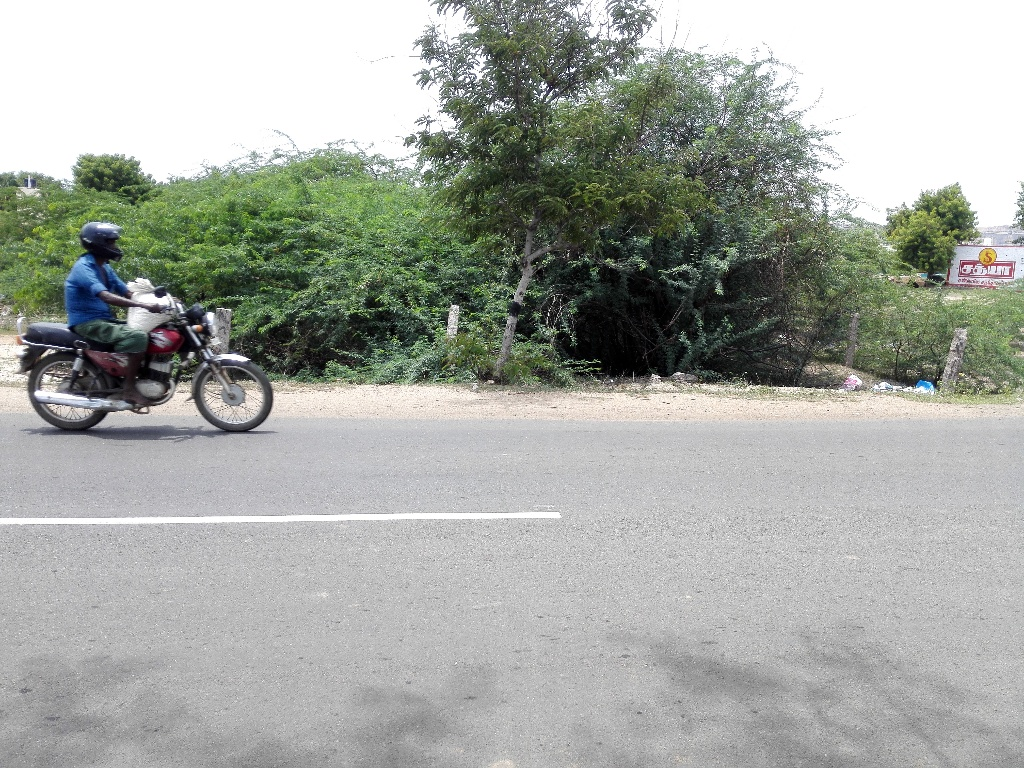biker: (1, 181, 314, 451)
helmet: (68, 208, 136, 270)
